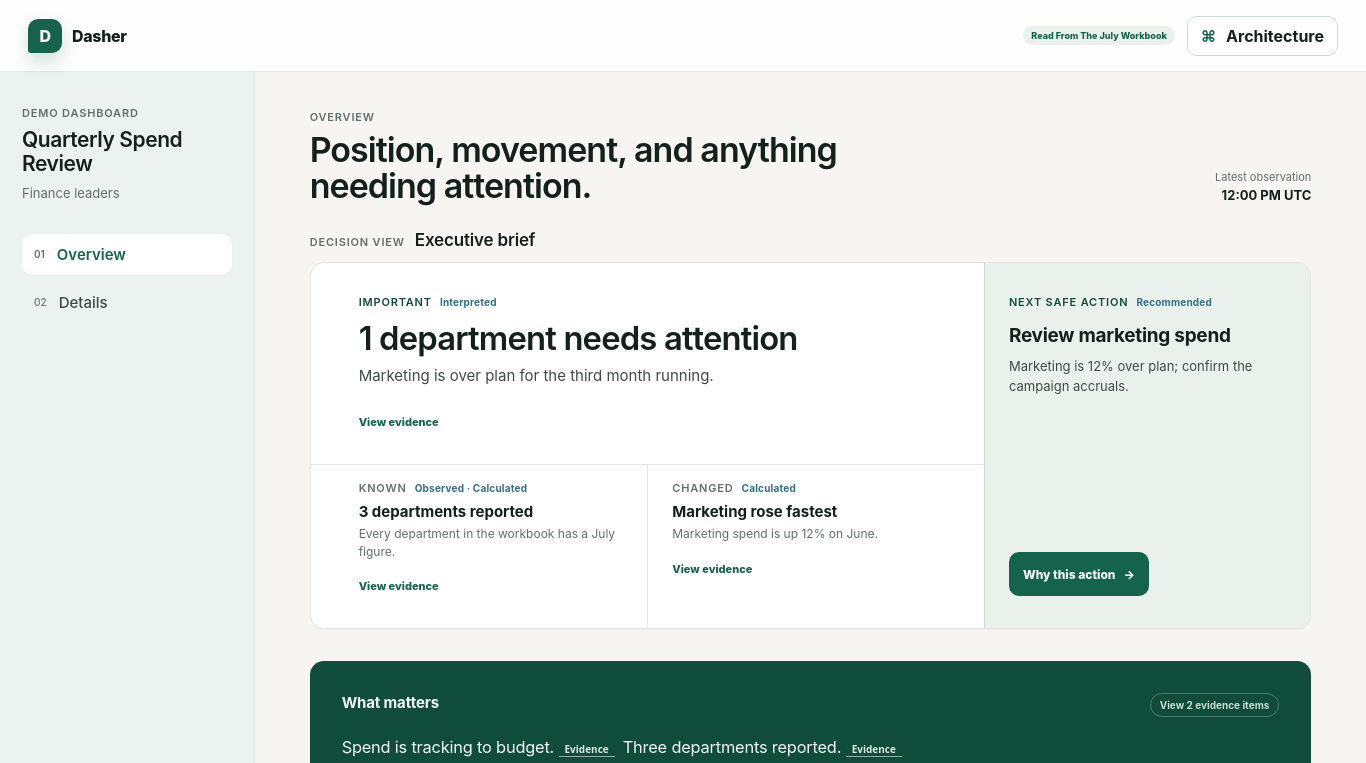
Test: DashboardShell › opens the plain-language architecture diagram
The width and height of the screenshot is (1366, 763).
Click the button "⌘ Architecture" at (1262, 36), box top-left (1187, 16), bottom-right (1338, 56)
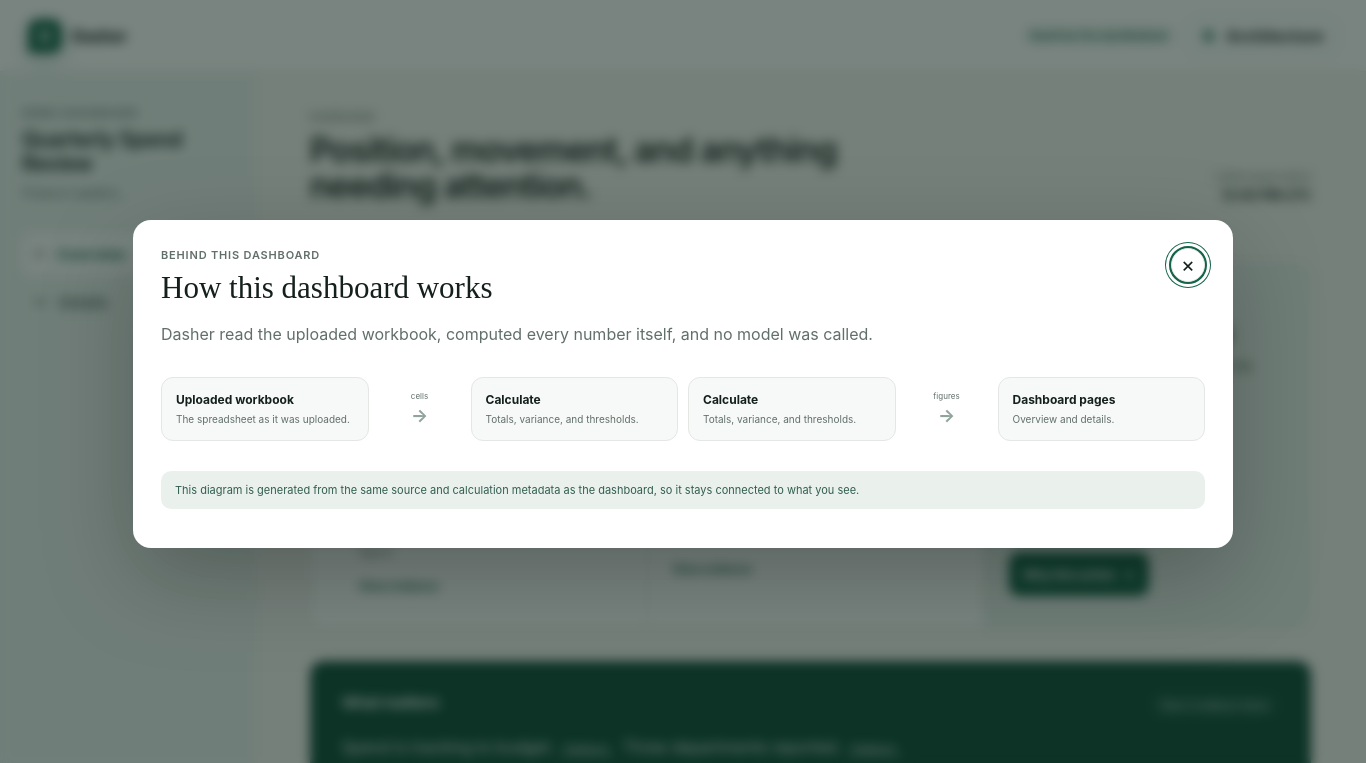
Now the dialog "How this dashboard works" is shown, box top-left (133, 220), bottom-right (1233, 548)
Now the text "Uploaded workbook" is shown, box top-left (176, 392), bottom-right (294, 407)
Now the text "no model was called" is shown, box top-left (161, 324), bottom-right (873, 344)
Press Tab
Press Escape
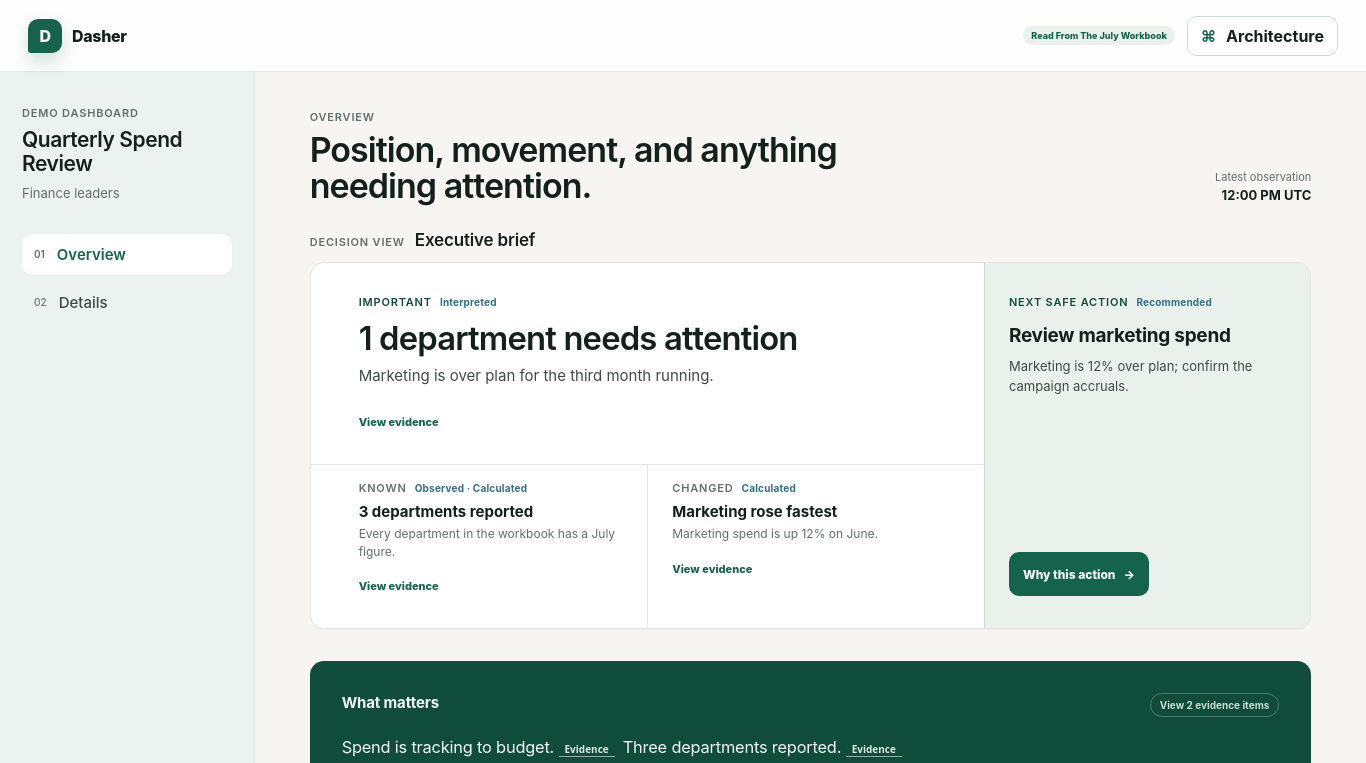
Now the heading "How this dashboard works" is gone
